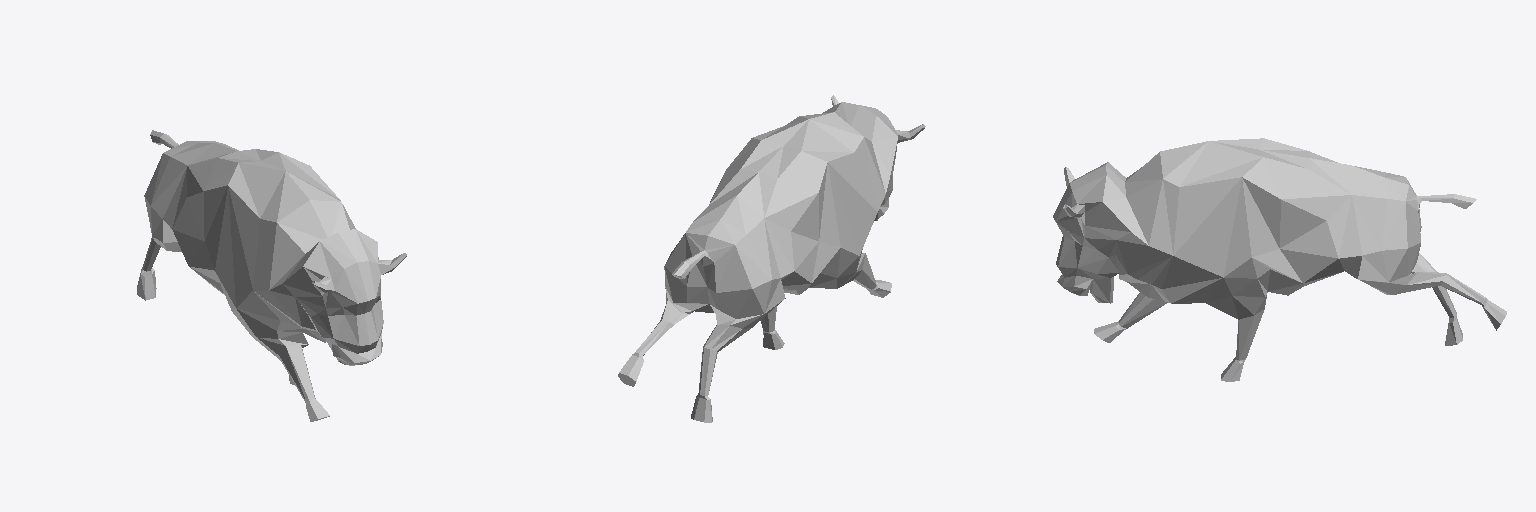
Rendered from bison_011.obj.
3 renders of one model, left to right at view 1: azimuth 30°, elevation 25°; view 2: azimuth 150°, elevation 25°; view 3: azimuth 270°, elevation 25°, orthographic.
Visible parts, largest first — view 1: comp_bison_rig:bison_body comp_bison_rig:bison; view 2: comp_bison_rig:bison_body comp_bison_rig:bison; view 3: comp_bison_rig:bison_body comp_bison_rig:bison.
Part boxes in pixels (bbox=[...]): comp_bison_rig:bison_body comp_bison_rig:bison: bbox=[137, 130, 406, 421]; comp_bison_rig:bison_body comp_bison_rig:bison: bbox=[618, 95, 925, 422]; comp_bison_rig:bison_body comp_bison_rig:bison: bbox=[1053, 138, 1506, 381].
Bounding box in the file's own units: 102 × 193 × 354.